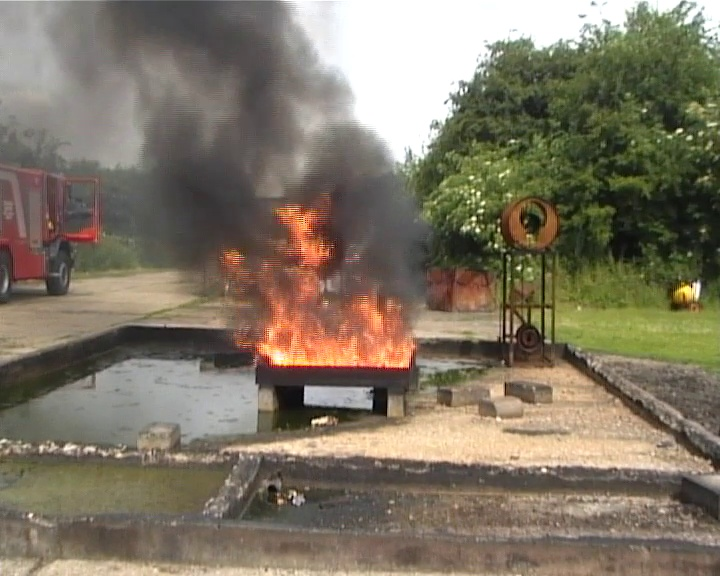fire: (252, 207, 411, 368)
